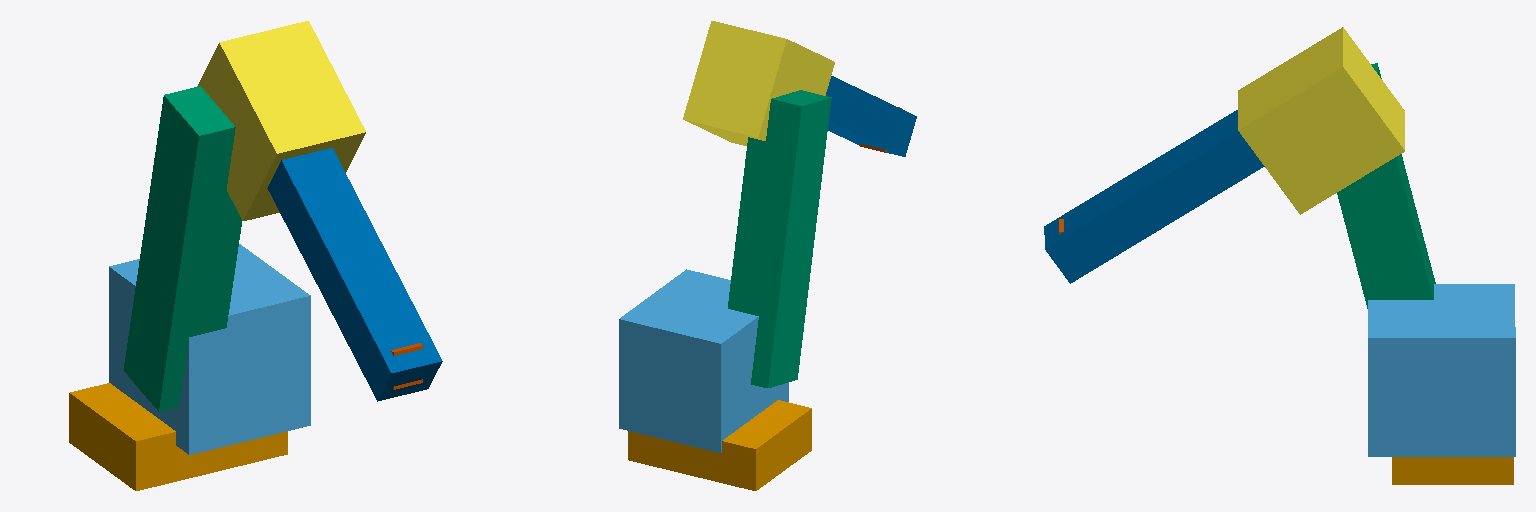
robot.urdf — [local-path]/OneDrive/Desktop/AME 547/Webots Project/Solar Glass:
<?xml version="1.0"?>
<robot name="[local-path]/OneDrive/Desktop/AME 547/Webots Project/Solar Glass Panel Pick and Place Floor/libraries/ABB IRB 4600 40 Solar Glass Pick and Place.urdf" xmlns:xacro="http://ros.org/wiki/xacro">
  <link name="base_link">
    <visual>
      <origin xyz="-0.063119 0 0.106497" rpy="0 0 0"/>
      <geometry>
        <box size="0.676133 0.514411 0.213001"/>
      </geometry>
    </visual>
    <collision>
      <origin xyz="-0.063119 0 0.106497" rpy="0 0 0"/>
      <geometry>
        <box size="0.676133 0.514411 0.213001"/>
      </geometry>
    </collision>
  </link>
  <joint name="A motor" type="revolute">
    <parent link="base_link"/>
    <child link="solid"/>
    <axis xyz="0 0 1"/>
    <limit effort="10000" lower="-3.1415" upper="3.1415" velocity="10"/>
    <origin xyz="0 0 0.159498" rpy="0 0 -1.57"/>
  </joint>
  <link name="solid">
    <visual>
      <origin xyz="0.046699 0.049037 0.269748" rpy="0 0 0"/>
      <geometry>
        <box size="0.621392 0.540918 0.552493"/>
      </geometry>
    </visual>
    <collision>
      <origin xyz="0.046699 0.049037 0.269748" rpy="0 0 0"/>
      <geometry>
        <box size="0.621392 0.540918 0.552493"/>
      </geometry>
    </collision>
  </link>
  <joint name="B motor" type="revolute">
    <parent link="solid"/>
    <child link="solid_0"/>
    <axis xyz="0 1 0"/>
    <limit effort="10000" lower="-1.5708" upper="2.61799" velocity="10"/>
    <origin xyz="0.178445 -0.122498 0.33439" rpy="0 0.235 0"/>
  </joint>
  <link name="solid_0">
    <visual>
      <origin xyz="-0.003447 -0.061473 0.529095" rpy="0 0 0"/>
      <geometry>
        <box size="0.279997 0.256948 1.33599"/>
      </geometry>
    </visual>
    <collision>
      <origin xyz="-0.003447 -0.061473 0.529095" rpy="0 0 0"/>
      <geometry>
        <box size="0.279997 0.256948 1.33599"/>
      </geometry>
    </collision>
  </link>
  <joint name="C motor" type="revolute">
    <parent link="solid_0"/>
    <child link="solid_1"/>
    <axis xyz="0 1 0"/>
    <limit effort="10000" lower="-3.1415" upper="1.309" velocity="10"/>
    <origin xyz="-0.003447 -0.0267 1.095594" rpy="0 0.353 0"/>
  </joint>
  <link name="solid_1">
    <visual>
      <origin xyz="0.085806 0.199325 0.094072" rpy="0 0 0"/>
      <geometry>
        <box size="0.533578 0.398651 0.472912"/>
      </geometry>
    </visual>
    <collision>
      <origin xyz="0.085806 0.199325 0.094072" rpy="0 0 0"/>
      <geometry>
        <box size="0.533578 0.398651 0.472912"/>
      </geometry>
    </collision>
  </link>
  <joint name="D motor" type="revolute">
    <parent link="solid_1"/>
    <child link="solid_2"/>
    <axis xyz="1 0 0"/>
    <limit effort="10000" lower="-6.98132" upper="6.98132" velocity="10"/>
    <origin xyz="0.340095 0.149198 0.174998" rpy="-0.00025 0 0"/>
  </joint>
  <link name="solid_2">
    <visual>
      <origin xyz="0.511874 0.003021 0" rpy="0 0 0"/>
      <geometry>
        <box size="1.04097 0.228038 0.195956"/>
      </geometry>
    </visual>
    <collision>
      <origin xyz="0.511874 0.003021 0" rpy="0 0 0"/>
      <geometry>
        <box size="1.04097 0.228038 0.195956"/>
      </geometry>
    </collision>
  </link>
  <joint name="E motor" type="revolute">
    <parent link="solid_2"/>
    <child link="solid_3"/>
    <axis xyz="0 1 0"/>
    <limit effort="10000" lower="-2.18166" upper="2.0944" velocity="10"/>
    <origin xyz="0.929888 0 0" rpy="0 0.978 0"/>
  </joint>
  <link name="solid_3">
    <visual>
      <origin xyz="-0.000001 -0.0015 0.000001" rpy="0 0 0"/>
      <geometry>
        <box size="0.159731 0.130998 0.160194"/>
      </geometry>
    </visual>
    <collision>
      <origin xyz="-0.000001 -0.0015 0.000001" rpy="0 0 0"/>
      <geometry>
        <box size="0.159731 0.130998 0.160194"/>
      </geometry>
    </collision>
  </link>
  <joint name="F motor" type="revolute">
    <parent link="solid_3"/>
    <child link="solid_4"/>
    <axis xyz="1 0 0"/>
    <limit effort="10000" lower="-6.98132" upper="6.98132" velocity="10"/>
    <origin xyz="0.124999 0 0.000001" rpy="3.14 0 0"/>
  </joint>
  <link name="solid_4">
  </link>
  <link name="vacuum gripper">
  </link>
  <joint name="solid_4_vacuum gripper_joint" type="fixed">
    <parent link="solid_4"/>
    <child link="vacuum gripper"/>
    <origin xyz="0.015 0 -0.000002" rpy="0 0 0"/>
  </joint>
  <link name="distance sensor">
  </link>
  <joint name="solid_4_distance sensor_joint" type="fixed">
    <parent link="solid_4"/>
    <child link="distance sensor"/>
    <origin xyz="0 0 0" rpy="0 0 0"/>
  </joint>
  <link name="touch sensor">
  </link>
  <joint name="solid_4_touch sensor_joint" type="fixed">
    <parent link="solid_4"/>
    <child link="touch sensor"/>
    <origin xyz="0 0 0" rpy="0 0 0"/>
  </joint>
</robot>

--- Facts derived from the render (not from the file) ---
The picture shows the robot from 3 angles, left to right: view 1: azimuth 30°, elevation 25°; view 2: azimuth 150°, elevation 25°; view 3: azimuth 270°, elevation 25°; orthographic projection.
Model [local-path]/OneDrive/Desktop/AME 547/Webots Project/Solar Glass with 10 links and 9 joints (6 revolute, 3 fixed), rooted at base_link, posed every joint at zero.
Links seen in each view (by area): view 1: solid_0, solid, solid_2, solid_1, base_link; view 2: solid, solid_0, solid_1, base_link, solid_2; view 3: solid, solid_1, solid_2, solid_0, base_link.
Boxes of the visible links, x1=… form: solid_0: x1=123, y1=86, x2=241, y2=411; solid: x1=109, y1=244, x2=310, y2=454; solid_2: x1=267, y1=148, x2=442, y2=401; solid_1: x1=197, y1=21, x2=365, y2=220; base_link: x1=69, y1=383, x2=287, y2=490; solid: x1=619, y1=269, x2=788, y2=452; solid_0: x1=728, y1=90, x2=831, y2=387; solid_1: x1=683, y1=21, x2=834, y2=145; base_link: x1=628, y1=400, x2=811, y2=490; solid_2: x1=826, y1=76, x2=916, y2=156; solid: x1=1368, y1=284, x2=1515, y2=456; solid_1: x1=1238, y1=27, x2=1404, y2=214; solid_2: x1=1044, y1=110, x2=1264, y2=283; solid_0: x1=1337, y1=63, x2=1435, y2=308; base_link: x1=1392, y1=457, x2=1513, y2=484.
Size in the robot's own frame: 0.721 by 1.99 by 1.94 metres.
Geometry: primitives only (box / cylinder / sphere), no mesh files.
